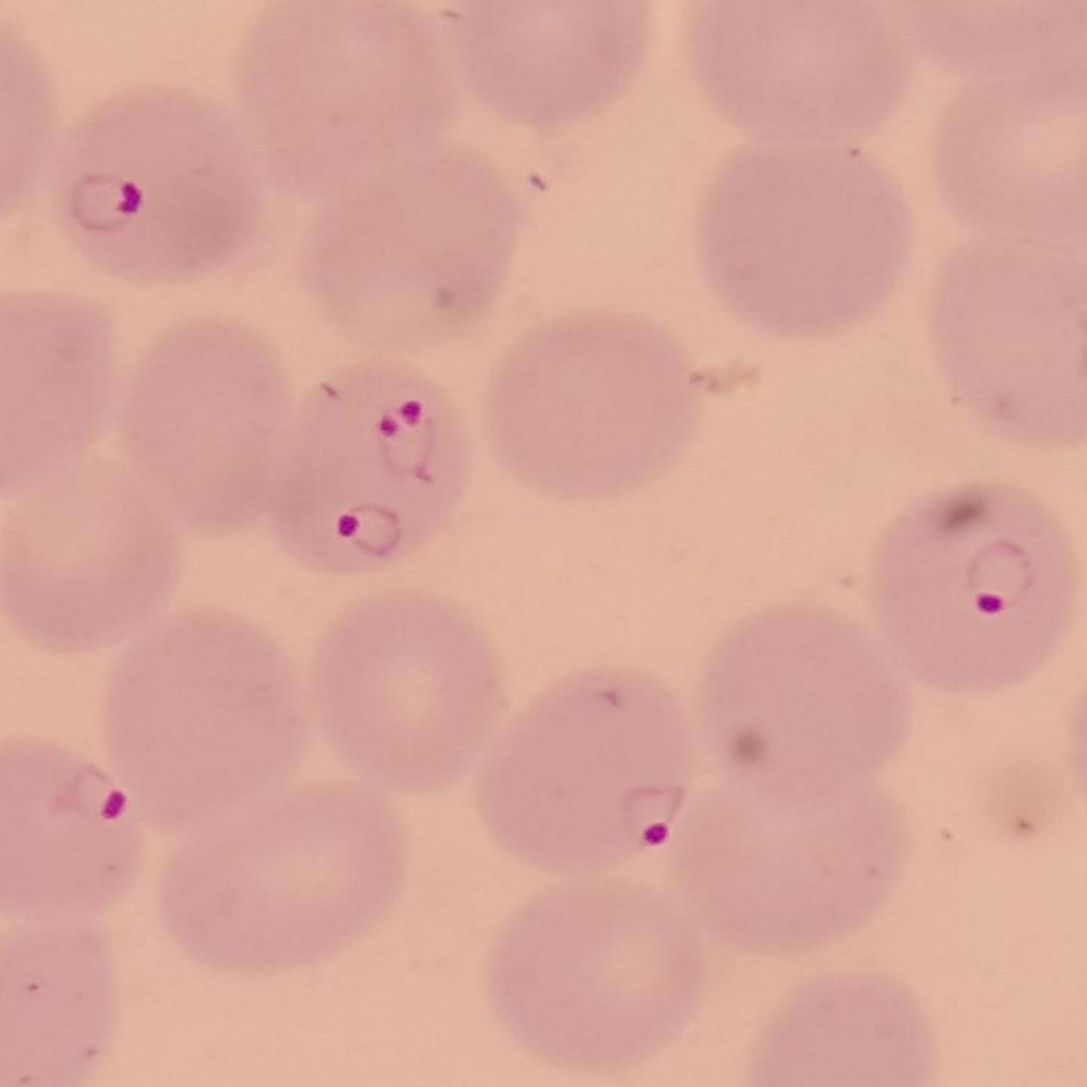Infected: (480, 667, 697, 867), (878, 481, 1076, 698), (272, 370, 473, 577), (58, 89, 263, 274), (0, 743, 142, 913)
Uninfected: (151, 793, 407, 968), (304, 156, 515, 364), (707, 132, 907, 346), (101, 614, 310, 815), (691, 763, 915, 948), (503, 868, 701, 1060), (488, 310, 699, 490), (697, 607, 910, 775), (136, 323, 305, 530), (317, 594, 498, 783)
